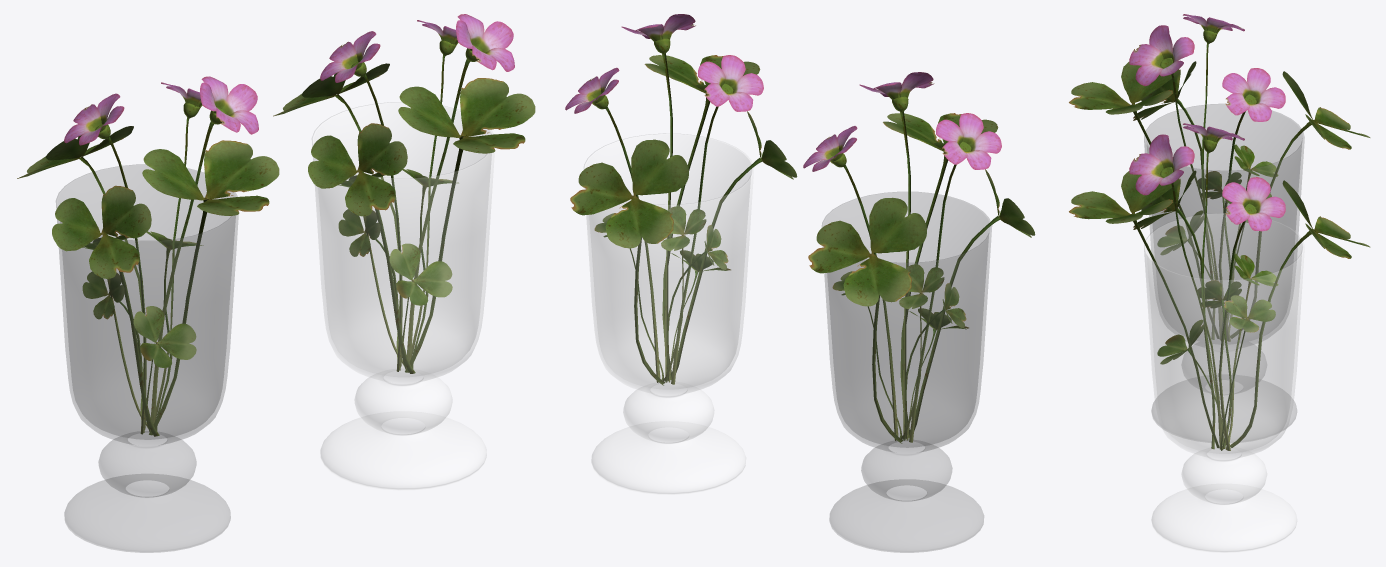
Rendered from vase_flowers.glb.
The picture shows the model from 3 angles, left to right: view 1: azimuth 30°, elevation 25°; view 2: azimuth 150°, elevation 25°; view 3: azimuth 270°, elevation 25°; orthographic projection. The views are drawn at different scales.
Parts seen in each view (by area): view 1: GlassAlpha, GlassTransmission, Flowers2, Flowers1; view 2: GlassAlpha, GlassTransmission, Flowers2, Flowers1; view 3: GlassTransmission, GlassAlpha, Flowers2, Flowers1.
Boxes of the visible parts, x1,y1,x2,y2 form: GlassAlpha: (56,164,238,552); GlassTransmission: (312,102,494,490); Flowers2: (273,14,535,373); Flowers1: (17,76,279,436); GlassAlpha: (822,192,991,552); GlassTransmission: (584,133,753,494); Flowers2: (565,14,797,385); Flowers1: (803,72,1035,443); GlassTransmission: (1144,213,1304,552); GlassAlpha: (1144,104,1304,442); Flowers2: (1069,123,1370,450); Flowers1: (1069,14,1370,341).
Size of the model in its own units: 0.2173 by 0.2032 by 0.1425.
3 materials, 1 textured.
